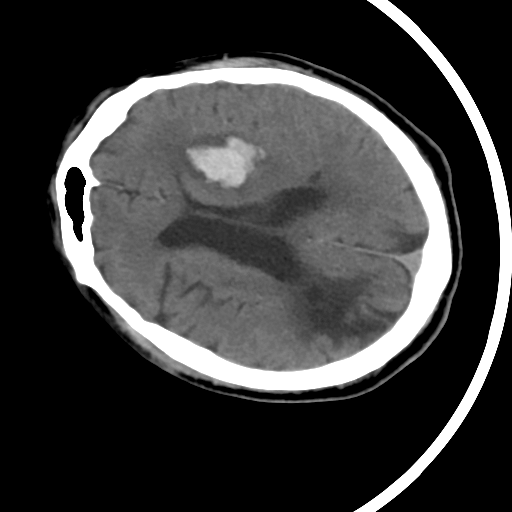a: (165, 119, 279, 199)
